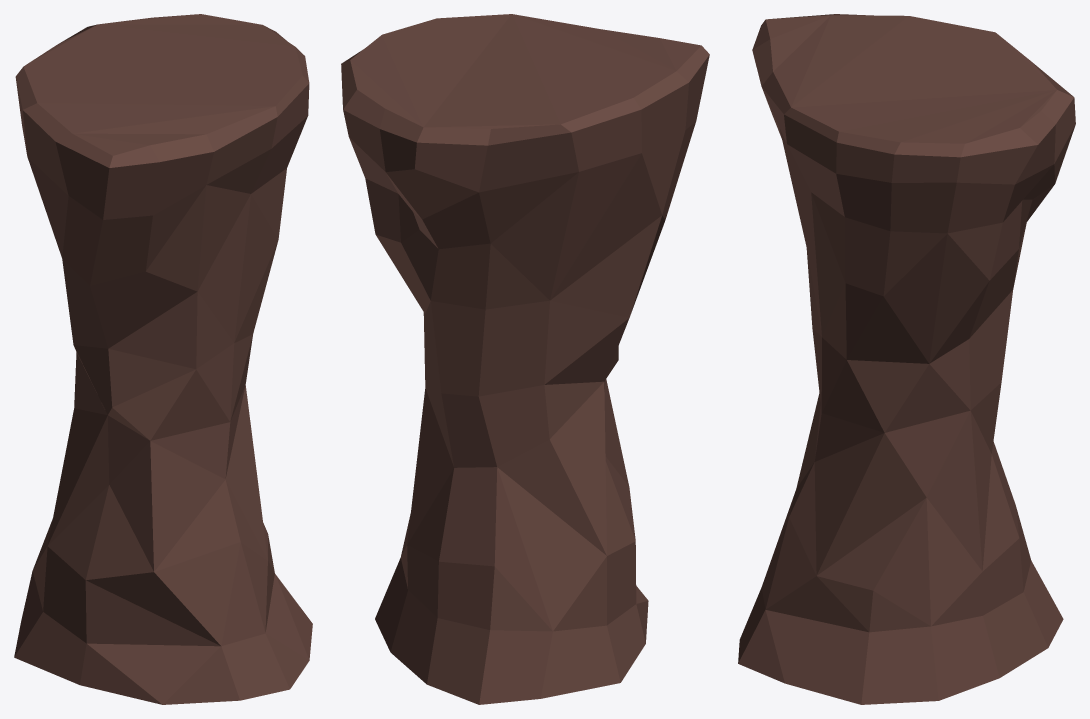
Rendered from Pillar-A10.fbx.
3 views of the same model, side by side, from view 1: azimuth 30°, elevation 25°; view 2: azimuth 150°, elevation 25°; view 3: azimuth 270°, elevation 25° (orthographic).
Parts seen in each view (by area): view 1: Pillar-A10; view 2: Pillar-A10; view 3: Pillar-A10.
Boxes of the visible parts, x1,y1,x2,y2 form: Pillar-A10: [14, 14, 312, 704]; Pillar-A10: [341, 14, 709, 704]; Pillar-A10: [738, 14, 1075, 704].
Bounding box in the file's own units: 208 × 214 × 397.
